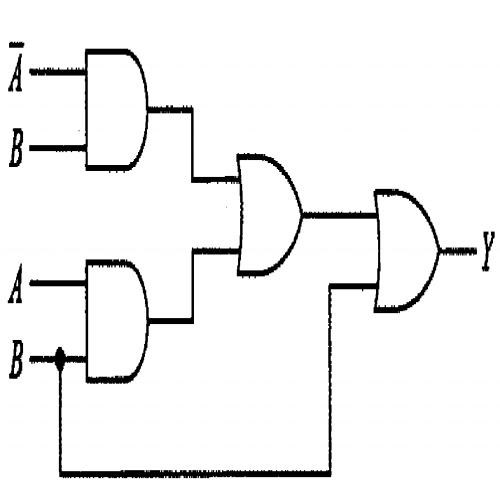and: (75, 31, 160, 200), (76, 240, 161, 399)
or: (368, 168, 449, 331), (227, 143, 310, 295)
